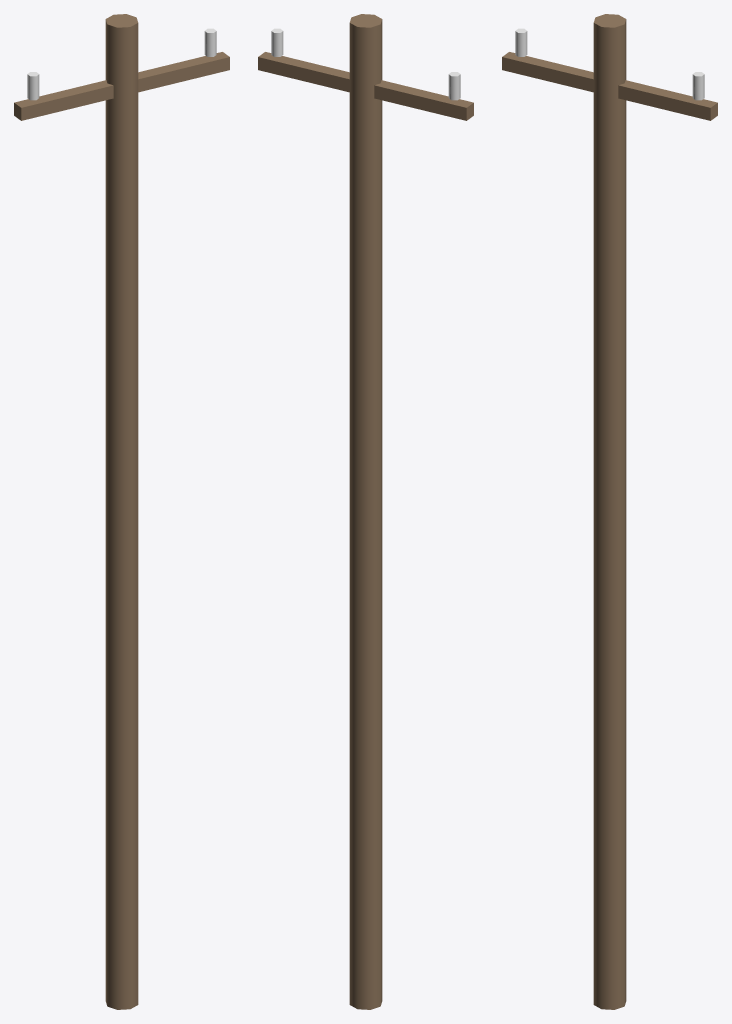
Rendered from power_pole.glb.
3 views of the same model, side by side, from view 1: azimuth 30°, elevation 25°; view 2: azimuth 150°, elevation 25°; view 3: azimuth 330°, elevation 25° (orthographic).
Parts seen in each view (by area): view 1: power_pole; view 2: power_pole; view 3: power_pole.
Boxes of the visible parts, bbox=[...] form: power_pole: bbox=[14, 14, 229, 1009]; power_pole: bbox=[258, 14, 473, 1009]; power_pole: bbox=[502, 14, 717, 1009].
Size of what is drawn, in the model's own units: 2 by 9 by 0.28.
